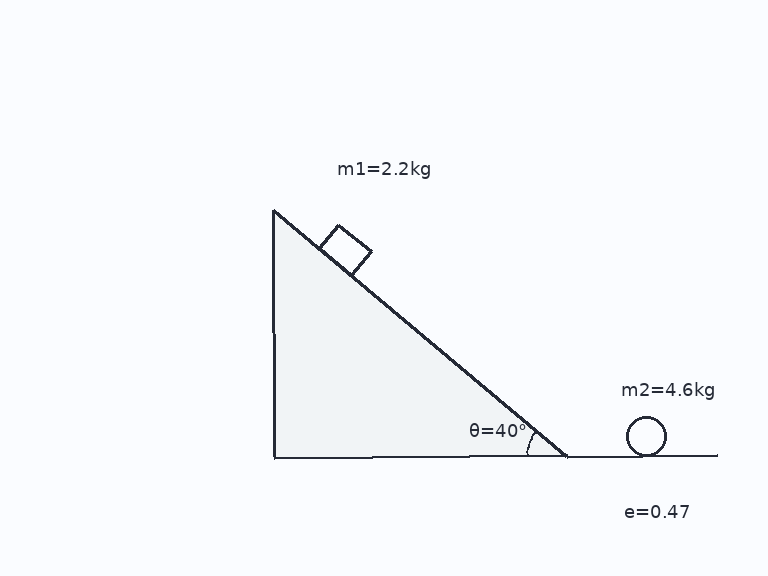ball: (624, 414, 668, 458)
block: (317, 223, 373, 277)
ramp: (272, 208, 569, 458)
